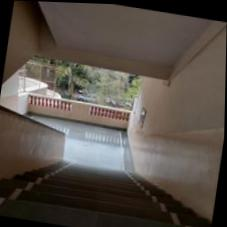Animal: (39, 151, 157, 225)
